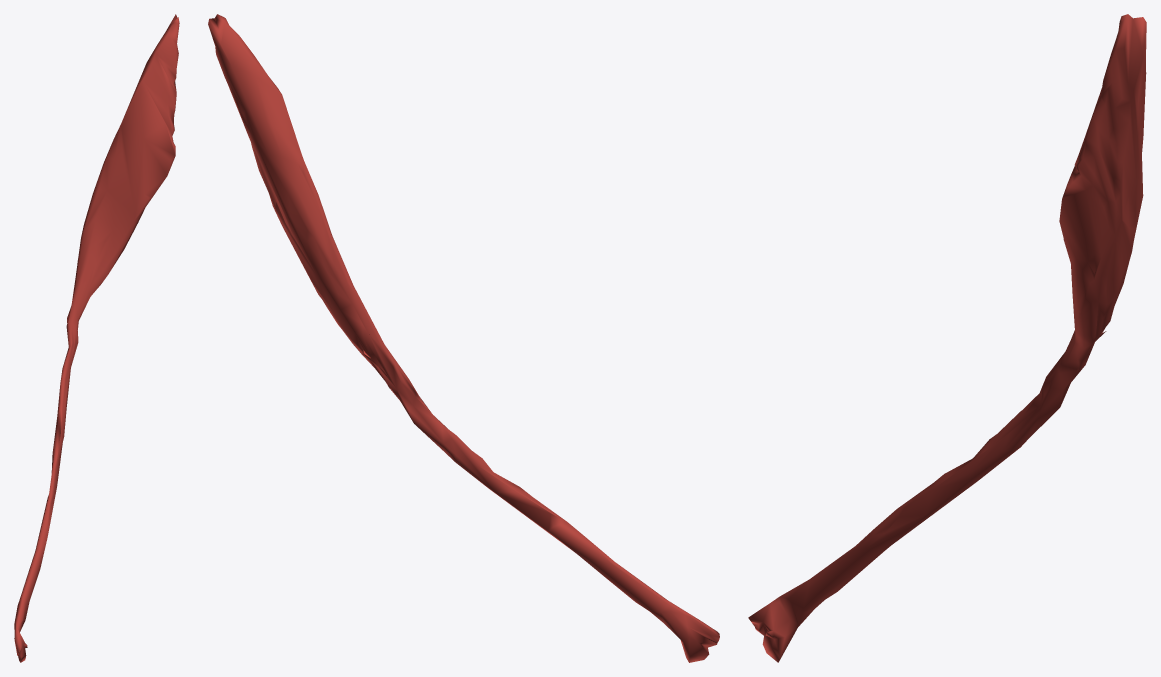
Rendered from musculos-extensor-pollicis-brevis-r.glb.
3 renders of one model, left to right at view 1: azimuth 30°, elevation 25°; view 2: azimuth 150°, elevation 25°; view 3: azimuth 270°, elevation 25°, orthographic. The views are drawn at different scales.
Parts seen in each view (by area): view 1: Extensor pollicis brevis.r; view 2: Extensor pollicis brevis.r; view 3: Extensor pollicis brevis.r.
Boxes of the visible parts, x1,y1,x2,y2 form: Extensor pollicis brevis.r: [14, 14, 179, 662]; Extensor pollicis brevis.r: [208, 14, 719, 662]; Extensor pollicis brevis.r: [748, 14, 1146, 662].
Bounding box in the file's own units: 0.079 × 0.1398 × 0.0586.
